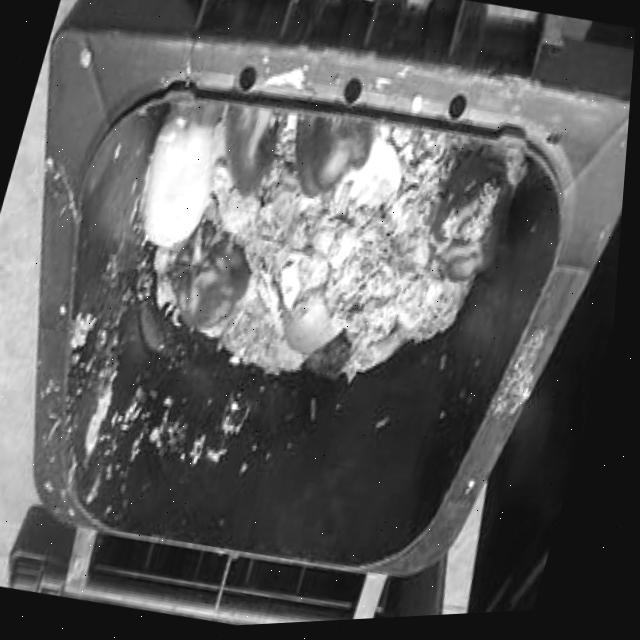Garbage: (145, 104, 529, 383)
